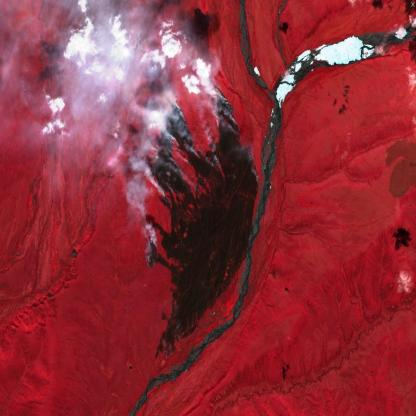fire: (140, 85, 243, 199), (141, 233, 164, 272), (164, 333, 184, 362)
